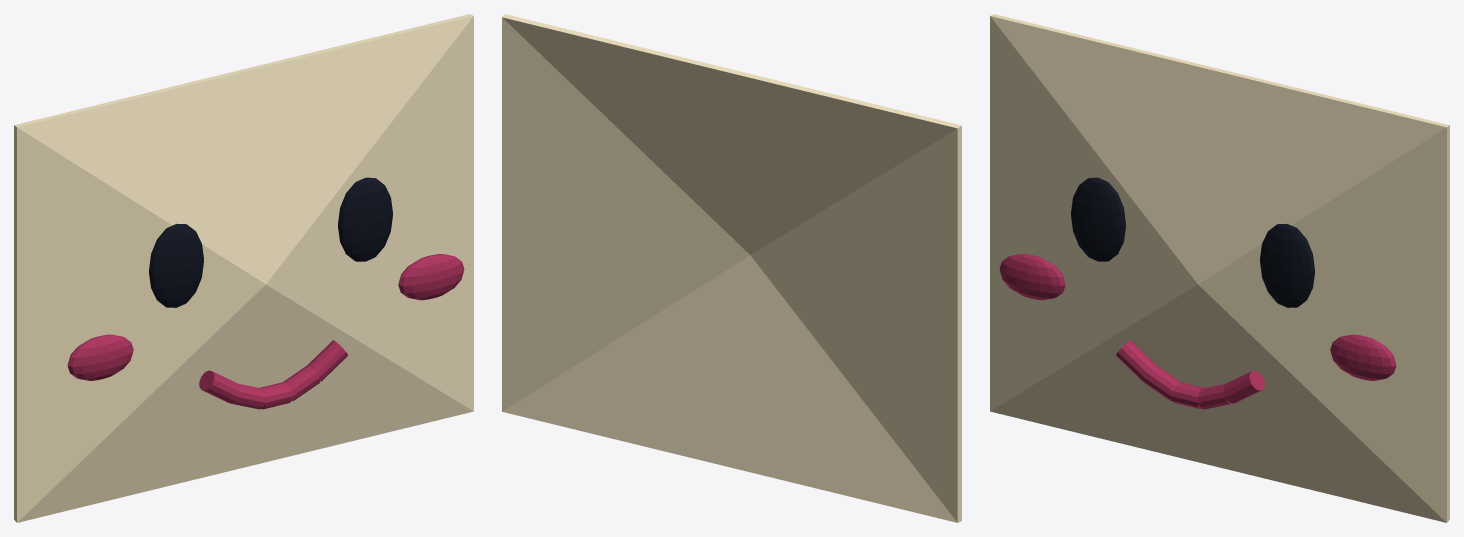
Rendered from Face_emote_dance.fbx.
The picture shows the model from 3 angles, left to right: view 1: azimuth 30°, elevation 25°; view 2: azimuth 150°, elevation 25°; view 3: azimuth 330°, elevation 25°; orthographic projection.
Visible parts, largest first — view 1: Face_emote_dance.Mesh; view 2: Face_emote_dance.Mesh; view 3: Face_emote_dance.Mesh.
Part boxes in pixels (<box>): Face_emote_dance.Mesh: <box>14,14,473,522</box>; Face_emote_dance.Mesh: <box>502,14,961,522</box>; Face_emote_dance.Mesh: <box>990,14,1449,522</box>.
Size of the model in its own units: 58 by 48 by 8.19.
